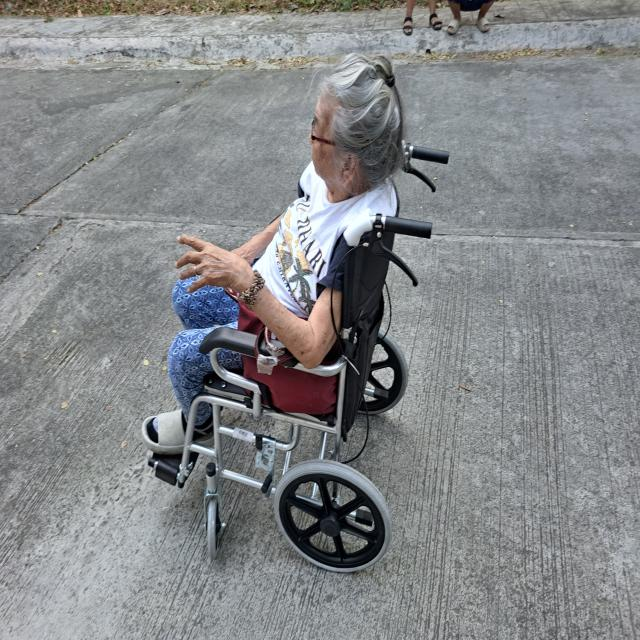wheelchairs: (148, 223, 433, 581)
